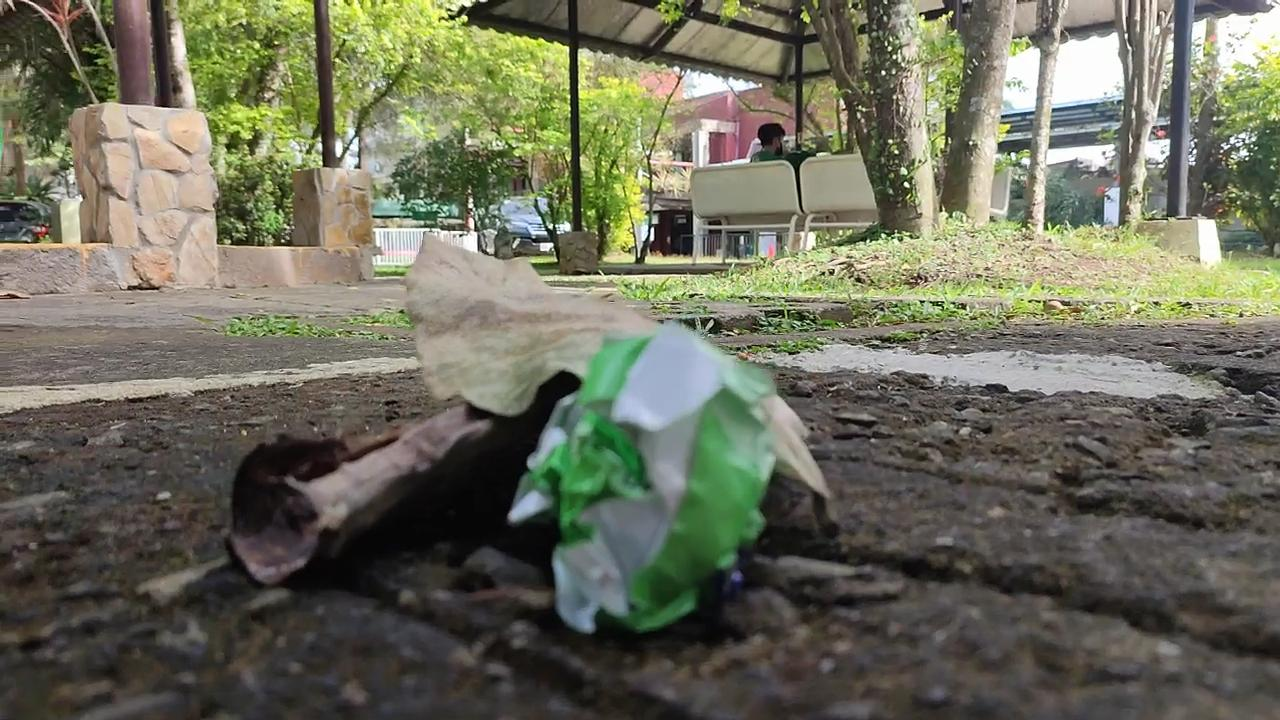Paper: (488, 314, 796, 650)
